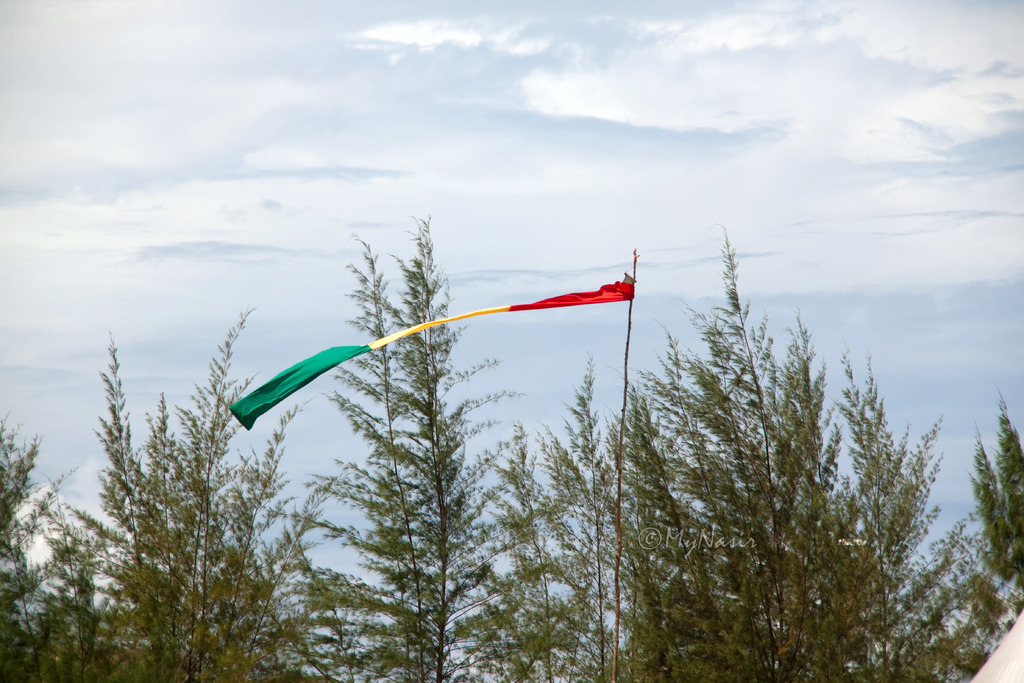Tree: (0, 213, 1023, 682)
